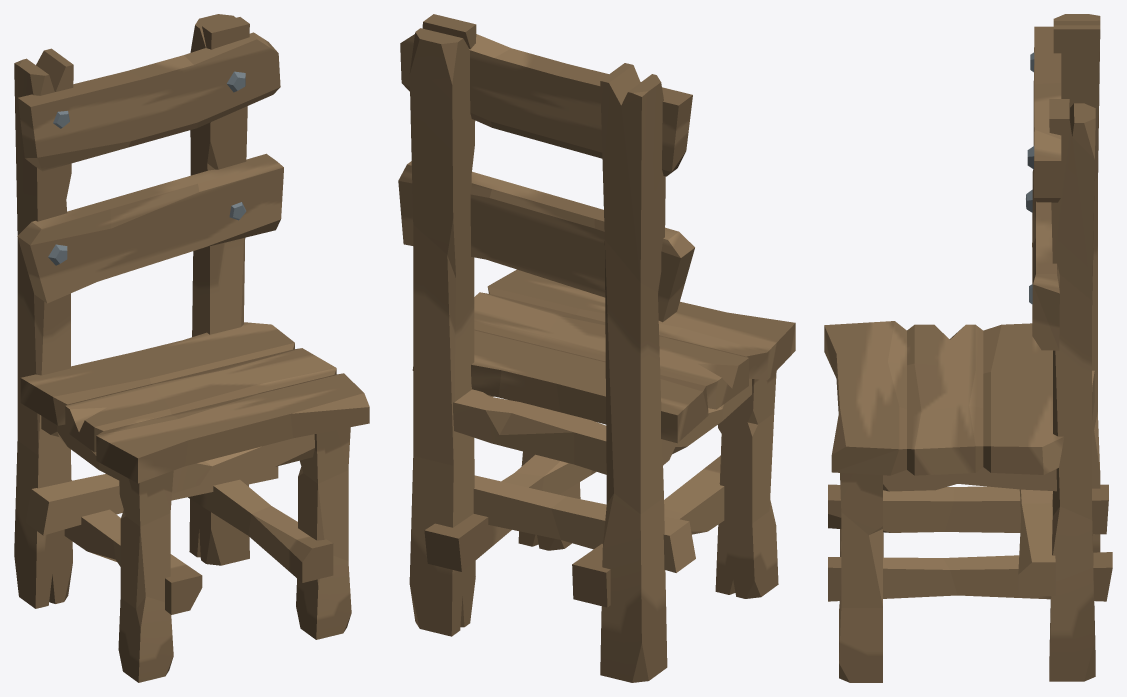
File: SM_Prop_Chair_02.fbx
The picture shows the model from 3 angles, left to right: view 1: azimuth 30°, elevation 25°; view 2: azimuth 150°, elevation 25°; view 3: azimuth 270°, elevation 25°; orthographic projection. The views are drawn at different scales.
Visible parts, largest first — view 1: SM_Prop_Chair_02; view 2: SM_Prop_Chair_02; view 3: SM_Prop_Chair_02.
Boxes of the visible parts, <box> form: SM_Prop_Chair_02: <box>14,14,369,682</box>; SM_Prop_Chair_02: <box>398,14,795,682</box>; SM_Prop_Chair_02: <box>824,14,1112,682</box>.
Bounding box in the file's own units: 49.66 × 99.8 × 46.38.
